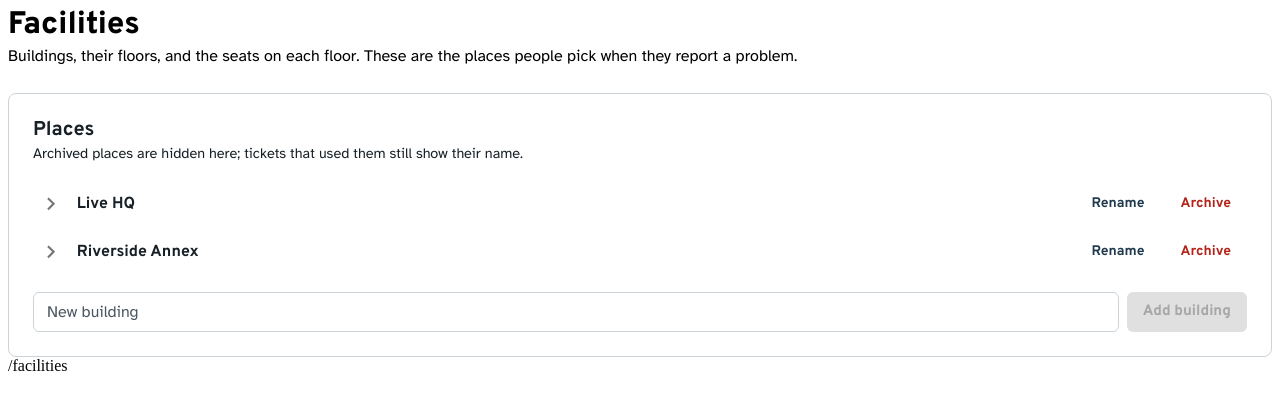
FacilitiesPage › shows a duplicate name beside the box, and keeps what was typed
Expected: the list named "Buildings" is shown, top-left (33, 180), bottom-right (1247, 276)
Type "Live HQ" into the field labelled "New building" at (576, 312), box top-left (33, 292), bottom-right (1119, 332)
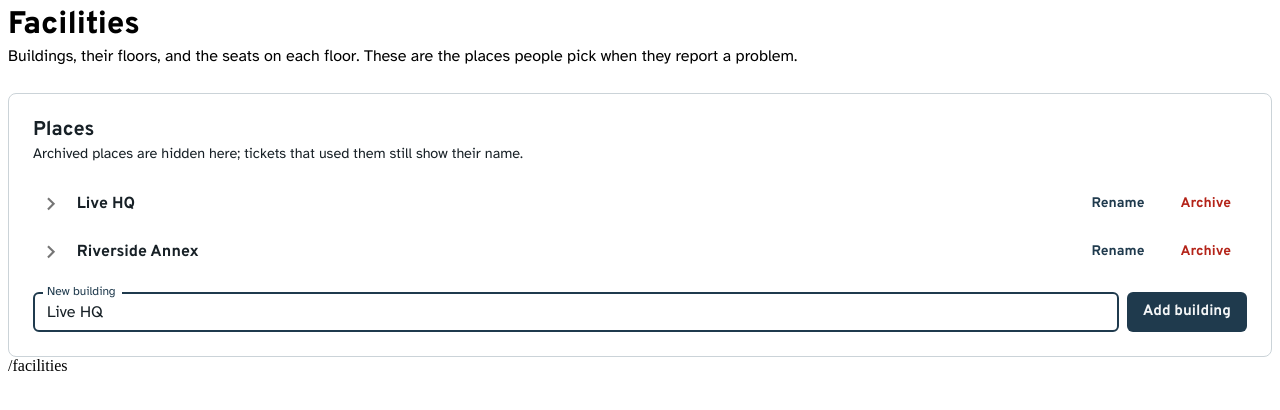
Click the button "Add building" at (1187, 312), box top-left (1127, 292), bottom-right (1247, 332)
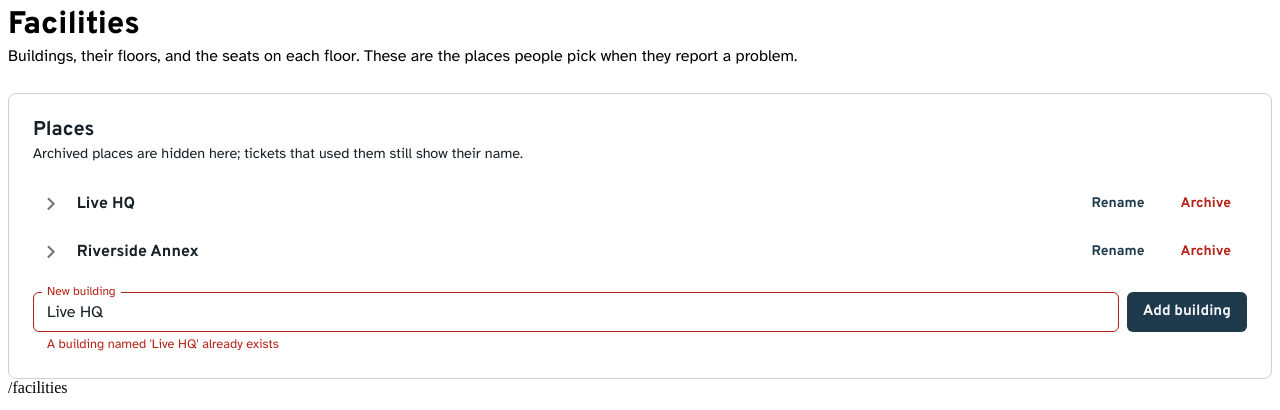
Expected: the text "A building named 'Live HQ' already exists" is shown, top-left (47, 336), bottom-right (279, 352)
